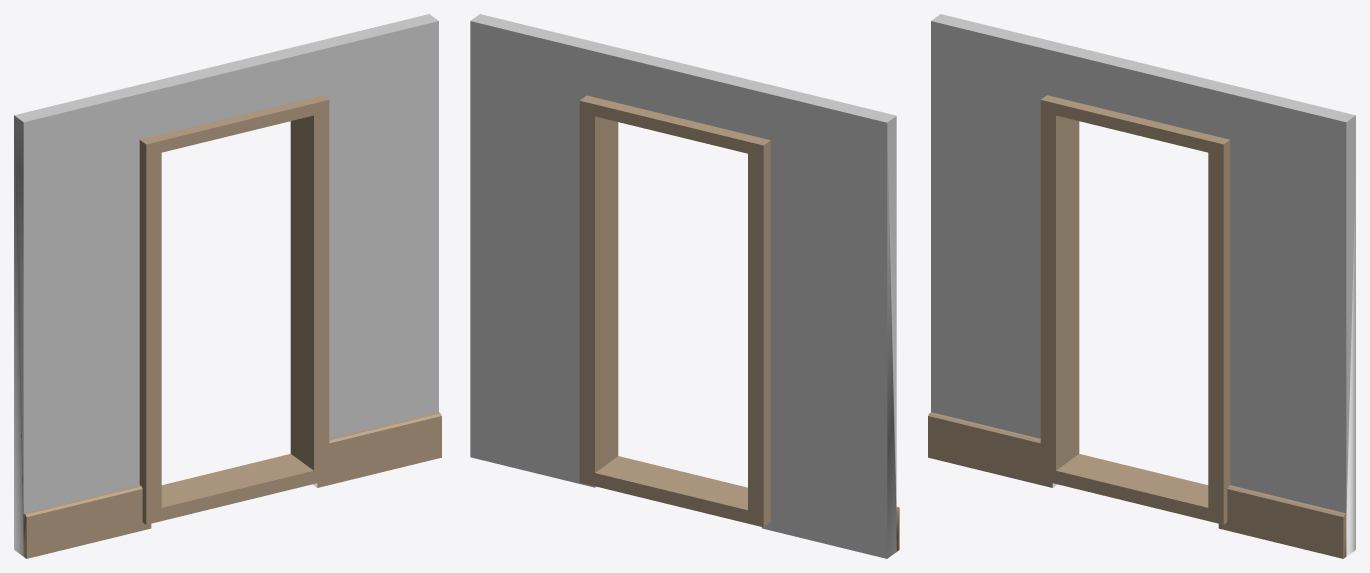
The model's file is House_Wall_Door.fbx.
3 renders of one model, left to right at view 1: azimuth 30°, elevation 25°; view 2: azimuth 150°, elevation 25°; view 3: azimuth 330°, elevation 25°, orthographic.
Visible parts, largest first — view 1: WallFloor2_01__6_.007; view 2: WallFloor2_01__6_.007; view 3: WallFloor2_01__6_.007.
Boxes of the visible parts, x1,y1,x2,y2 form: WallFloor2_01__6_.007: (14, 14, 441, 558); WallFloor2_01__6_.007: (470, 14, 899, 558); WallFloor2_01__6_.007: (928, 14, 1355, 558).
Size of the model in its own units: 250 by 250 by 24.16.
